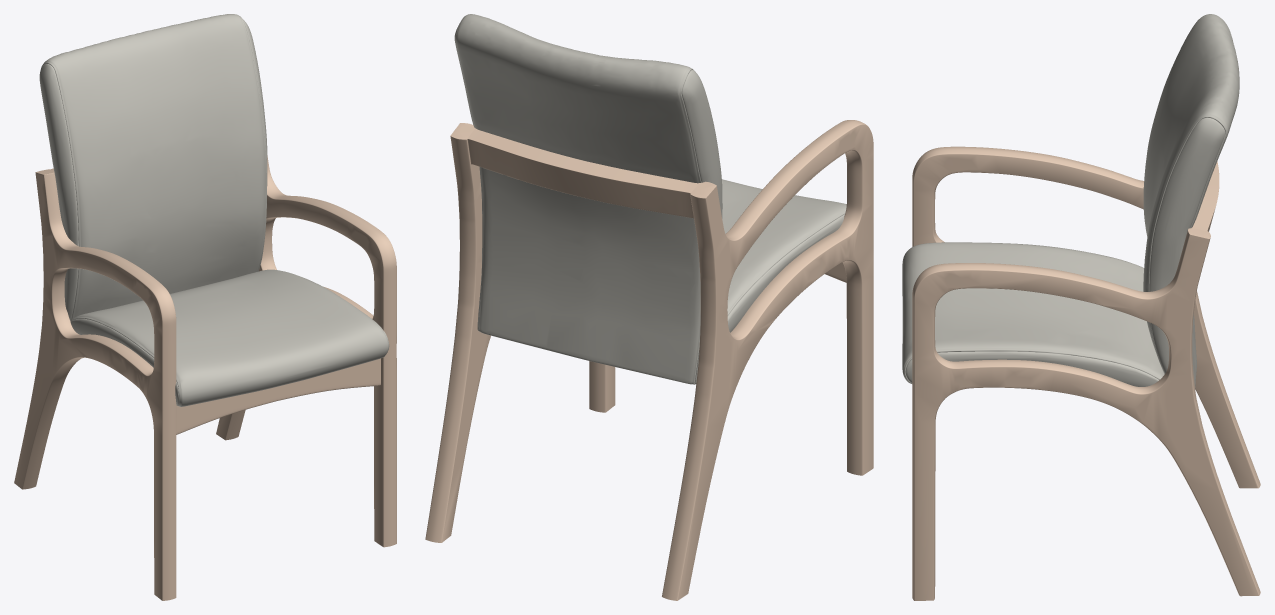
The model's file is cadeira-laura-braco.glb.
3 views of the same model, side by side, from view 1: azimuth 30°, elevation 25°; view 2: azimuth 150°, elevation 25°; view 3: azimuth 270°, elevation 25° (orthographic). The views are drawn at different scales.
Bounding box in the file's own units: 0.5099 × 0.9068 × 0.6181.
